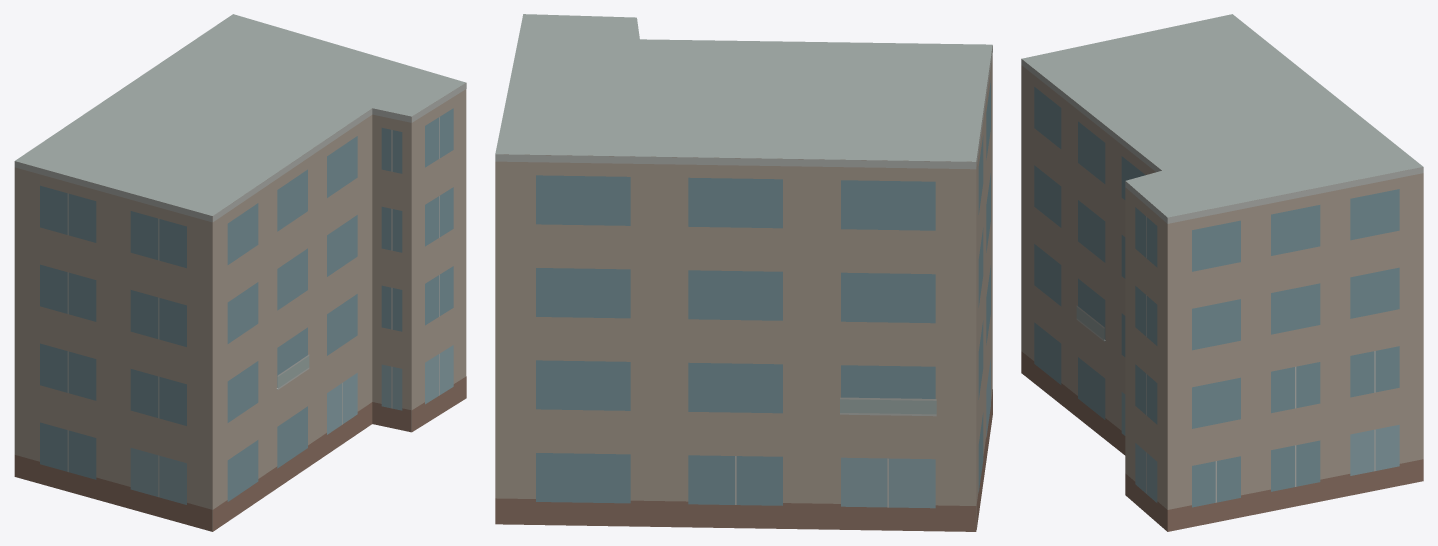
Rendered from survey-upis-32658691.glb.
The picture shows the model from 3 angles, left to right: view 1: azimuth 30°, elevation 25°; view 2: azimuth 150°, elevation 25°; view 3: azimuth 270°, elevation 25°; orthographic projection. The views are drawn at different scales.
Visible parts, largest first — view 1: survey-upis-32658691.tmp; view 2: survey-upis-32658691.tmp; view 3: survey-upis-32658691.tmp.
Part boxes in pixels (bbox=[...]): survey-upis-32658691.tmp: bbox=[14, 14, 466, 531]; survey-upis-32658691.tmp: bbox=[495, 14, 992, 531]; survey-upis-32658691.tmp: bbox=[1021, 14, 1423, 531].
Size of the model in its own units: 16.96 by 12.2 by 14.16.
